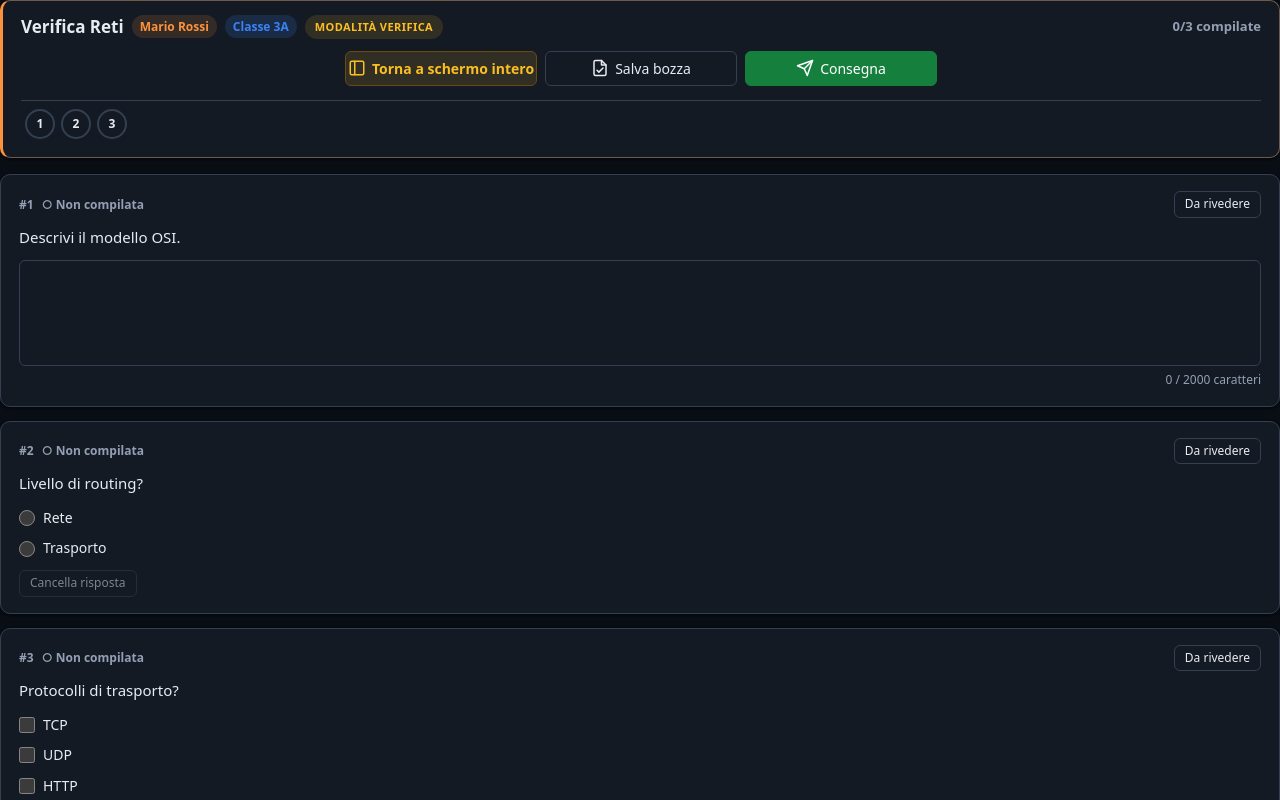
Test: OnlineExamView — question rendering › toggles the "da rivedere" marker
What coordinates should you click on to do the following:
click the button named "Segna la domanda 1 come \"da rivedere\""
I would click on:
 (1217, 205)
Its box is [1174,191,1261,218].
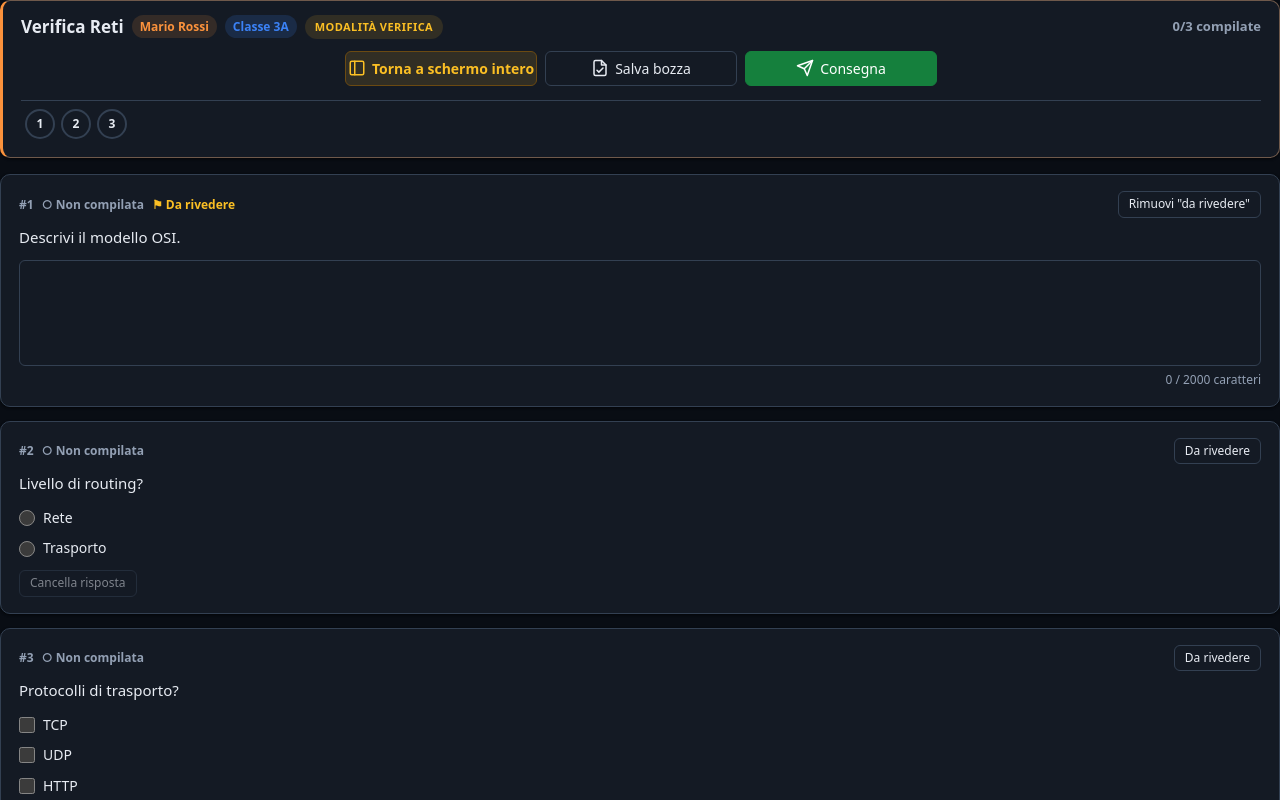
Expected: the text "⚑ Da rivedere" is shown, [152,195,235,214]
